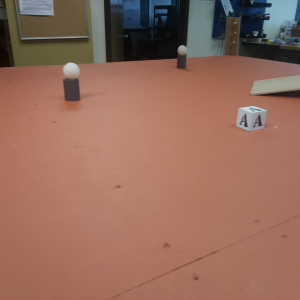blockA: (232, 104, 268, 134)
corner: (225, 16, 243, 58)
obstacle: (60, 61, 81, 103), (175, 43, 191, 72)
slope: (248, 74, 300, 100)
